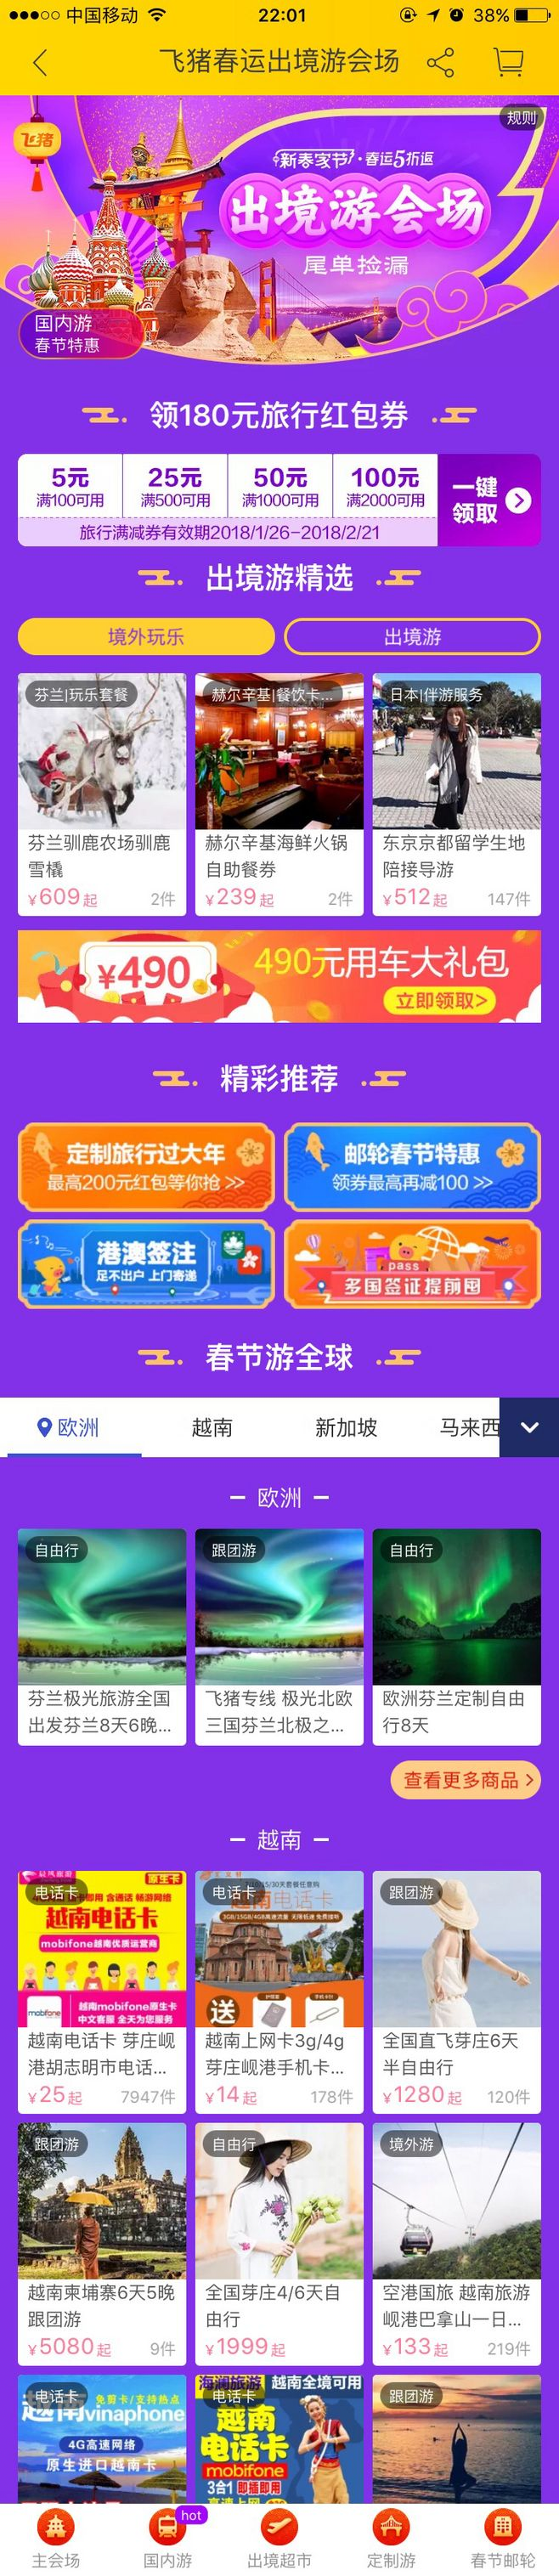floors: (2, 1336, 559, 2504), (2, 562, 559, 1030), (2, 1053, 559, 1318), (2, 393, 559, 554)
toutu: (2, 95, 559, 376)
